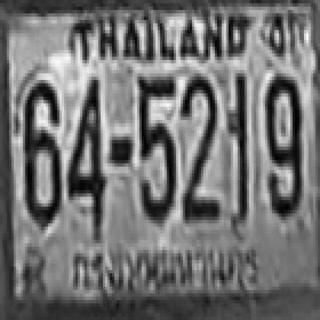N01: (226, 70, 247, 213)
N02: (180, 73, 217, 220), (180, 73, 216, 207)
N04: (66, 73, 103, 227)
N05: (137, 73, 174, 220)
N06: (23, 78, 60, 225)
N09: (263, 70, 300, 213)
P04: (67, 244, 265, 292)
